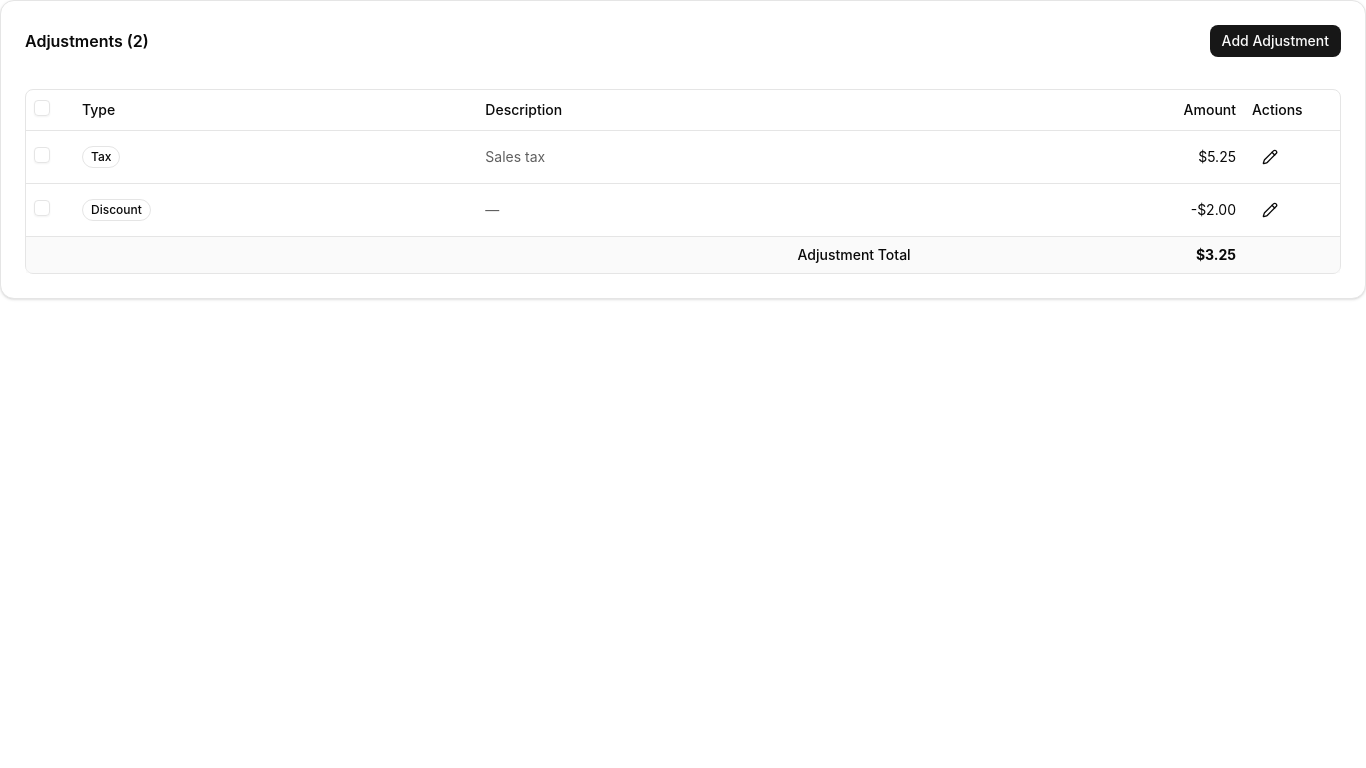
Test: AdjustmentsCard › opens edit dialog when Edit button is clicked
Click the button named "edit" in the row of "Sales tax" at [1270, 156], box [1252, 138, 1288, 174]
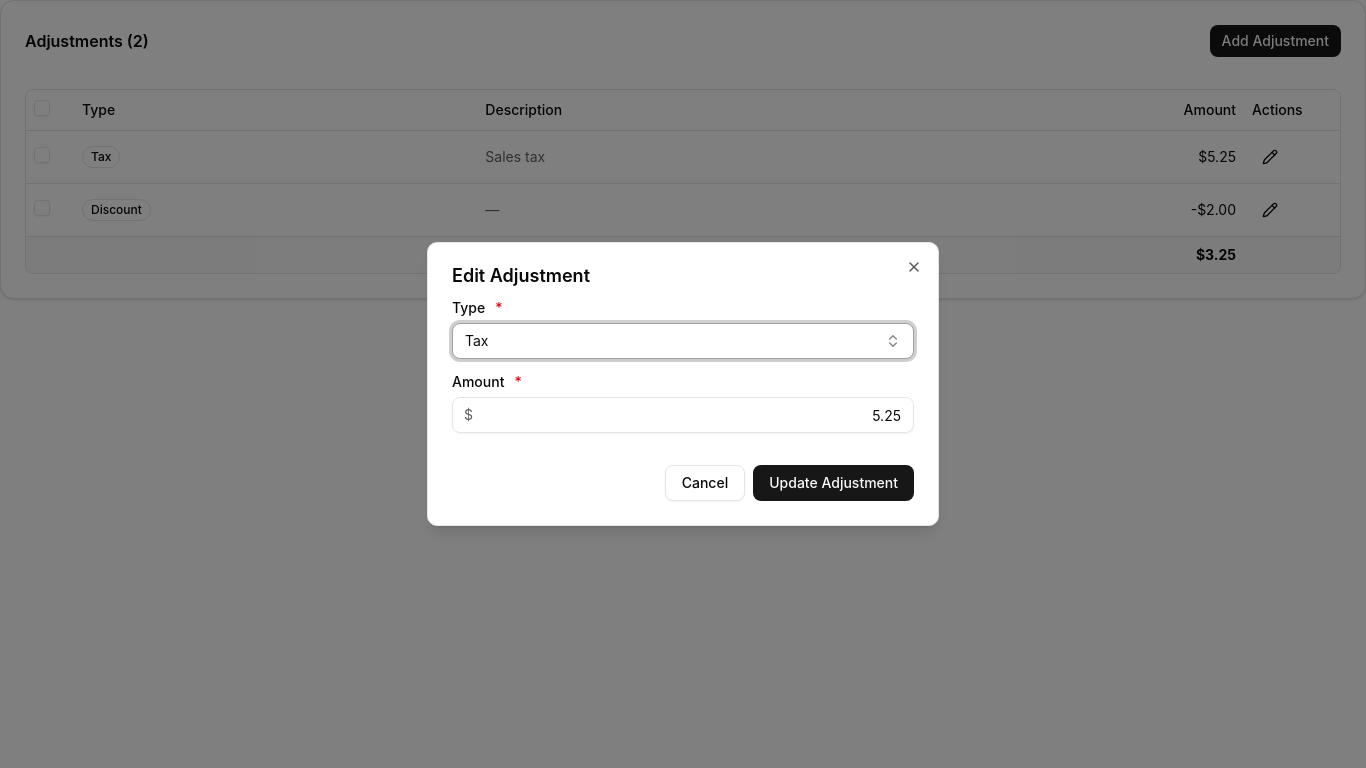
Expected: the heading "Edit Adjustment" is shown, [452, 265, 590, 286]
